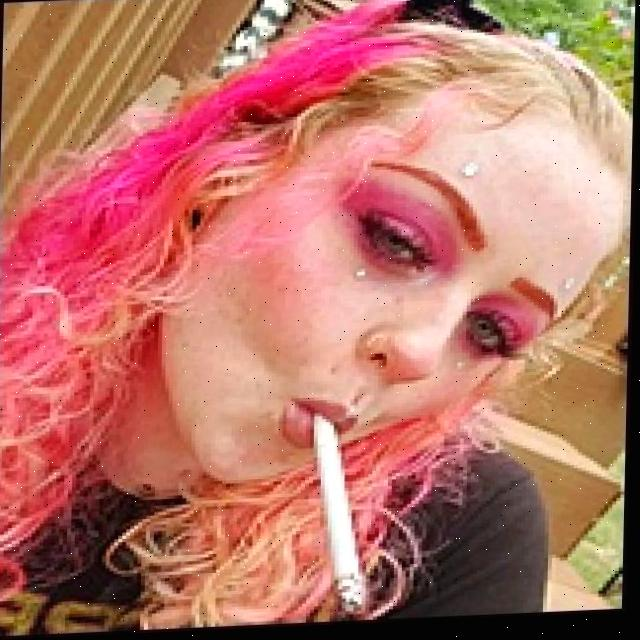cigarette: (312, 418, 379, 622)
